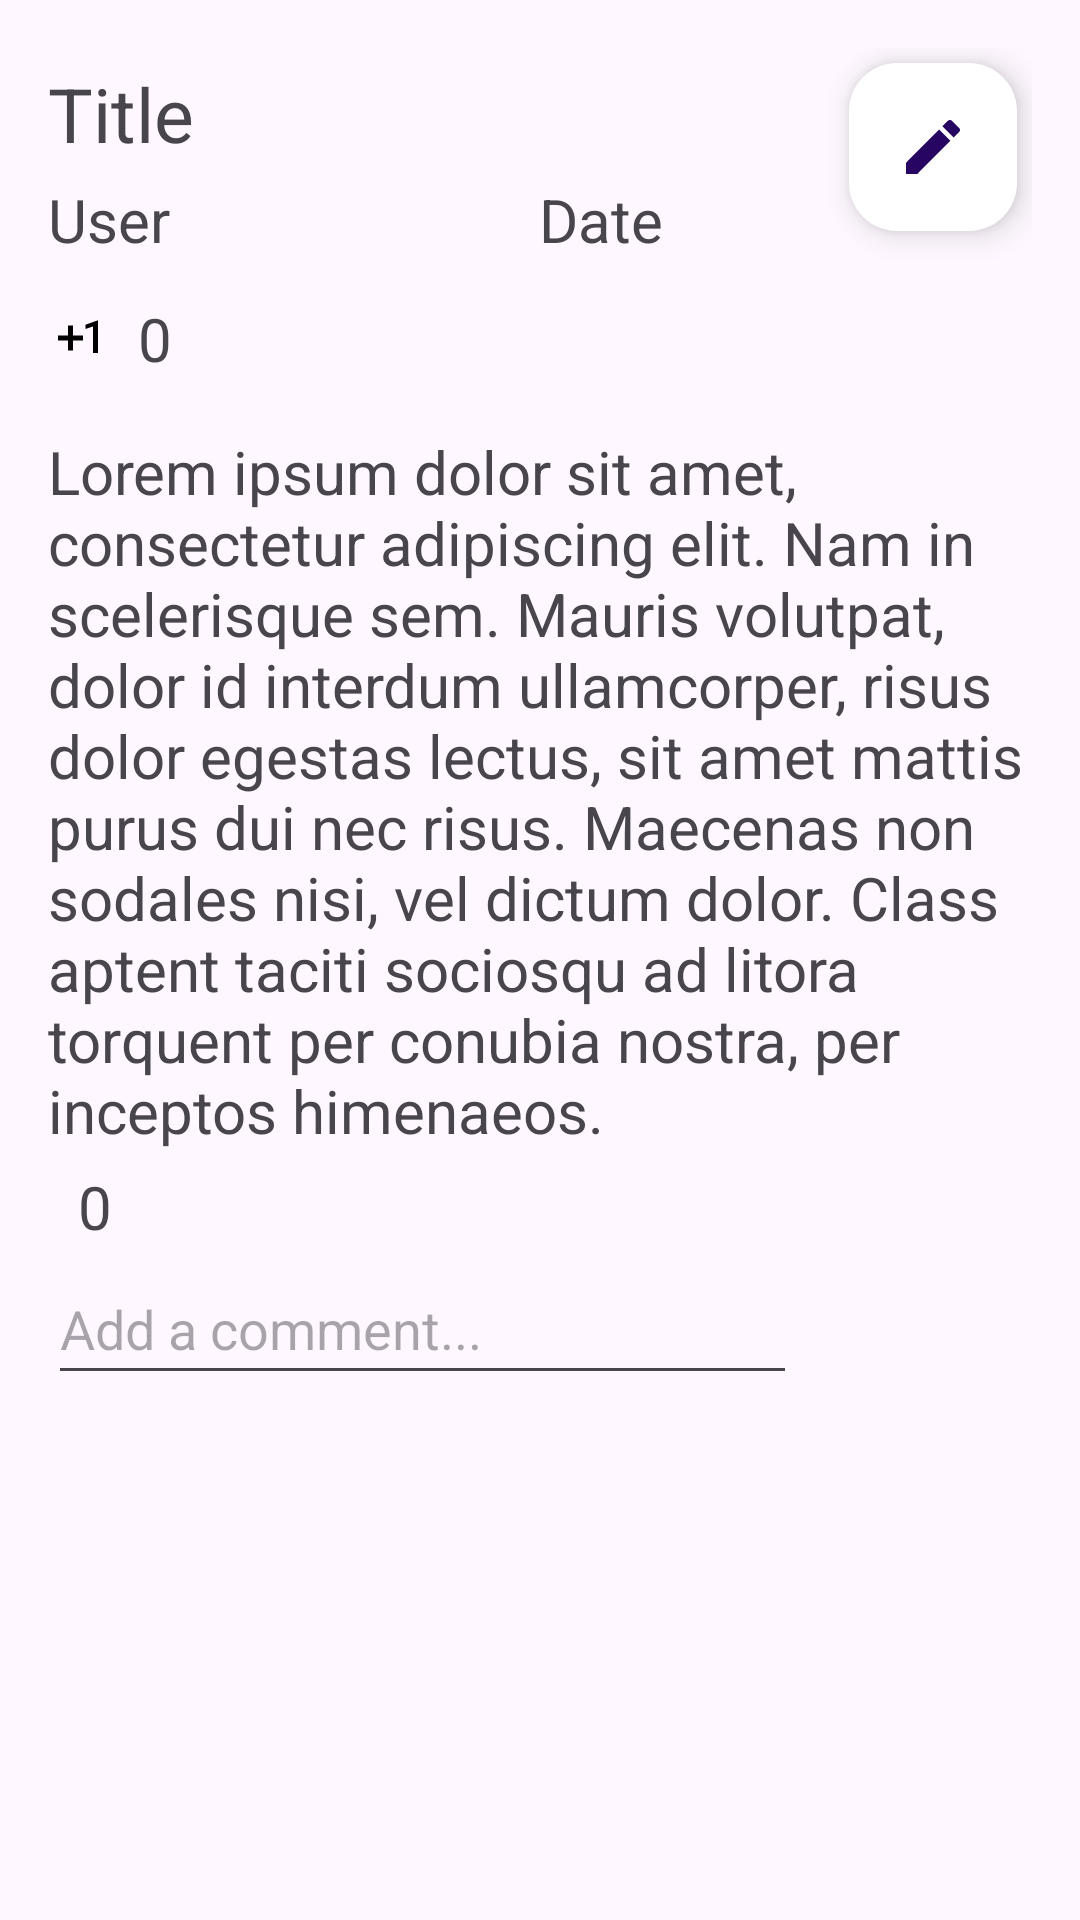

Icons on this 1080 x 1920 Android screen, each with its box as {"left": x1, "top": y1, "right": x2, "bottom": y2}:
edit: {"left": 849, "top": 63, "right": 1017, "bottom": 231}
exposure plus: {"left": 58, "top": 320, "right": 98, "bottom": 353}
